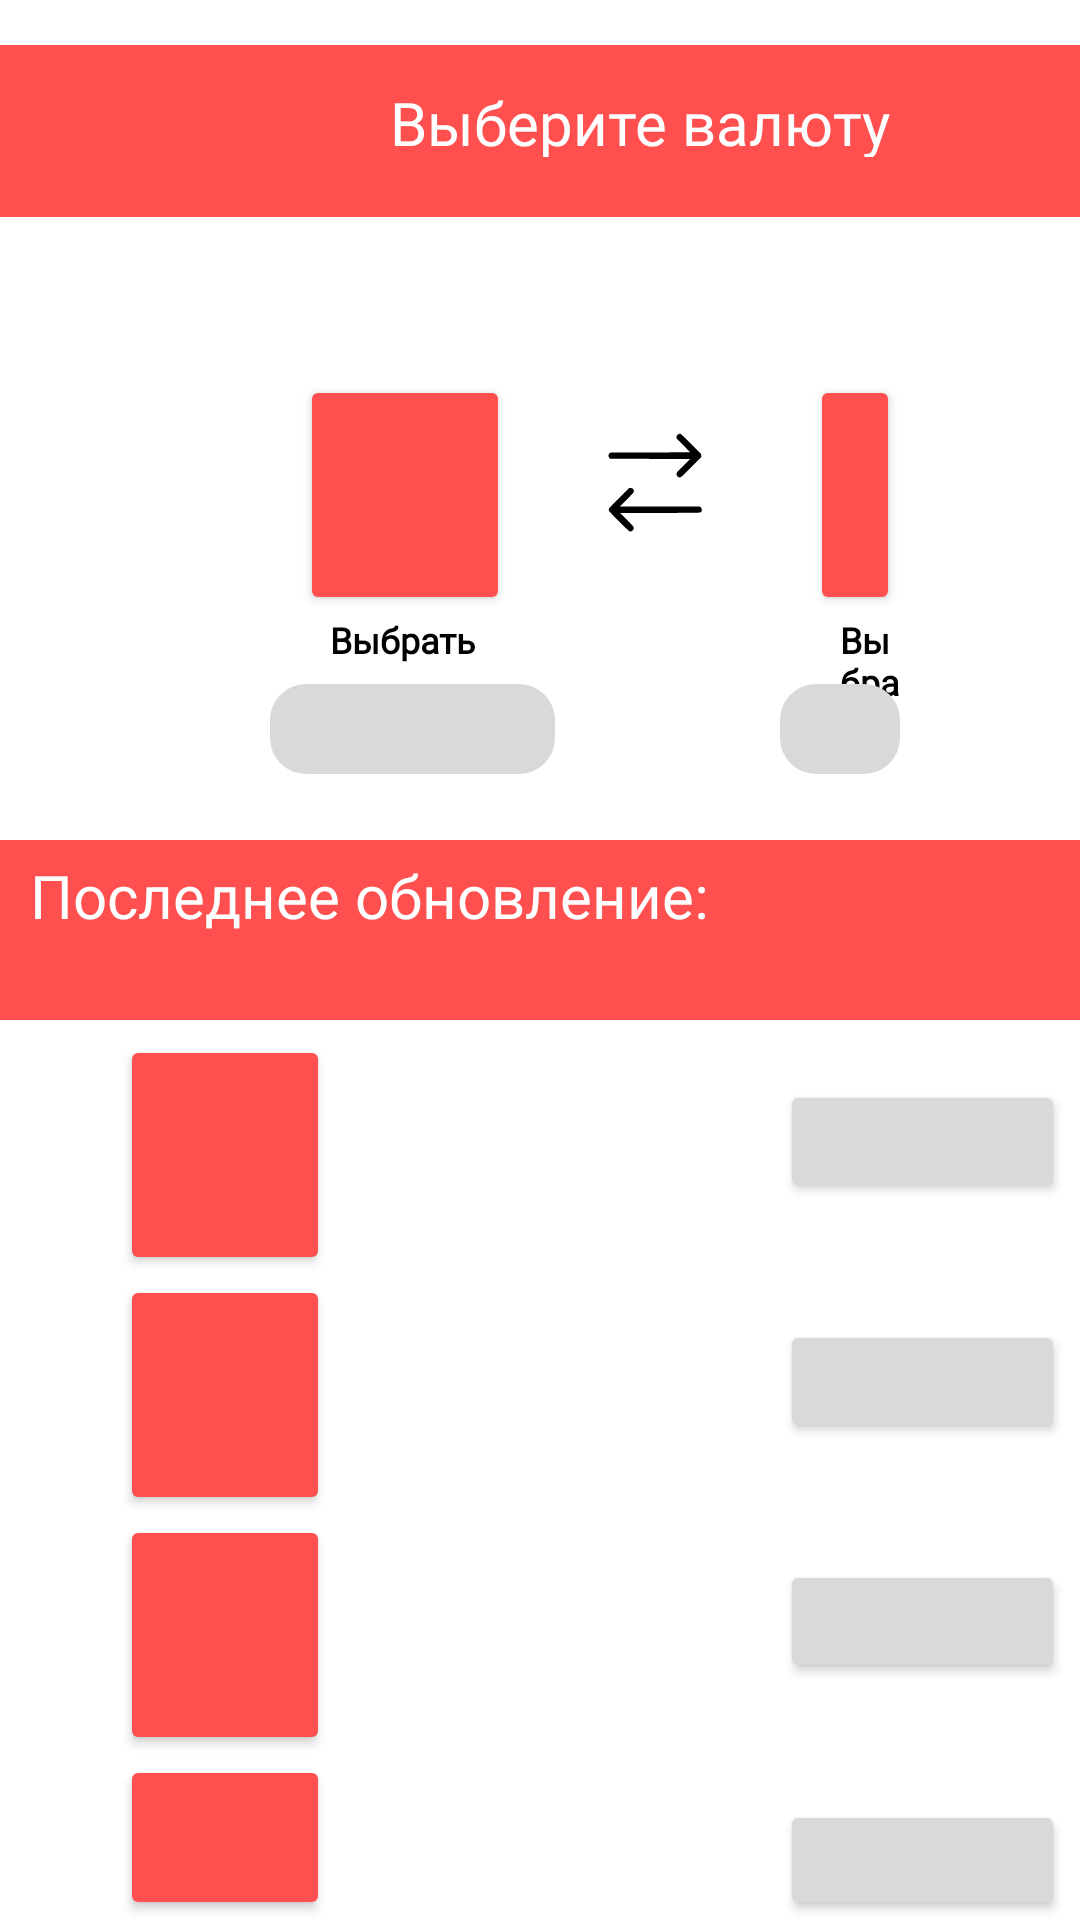

Locate icon controls on the screen. Image size 1080w x 1920h, boxes as detection(x1, y1, x2, y2).
tuda suda: detection(608, 433, 702, 532)
